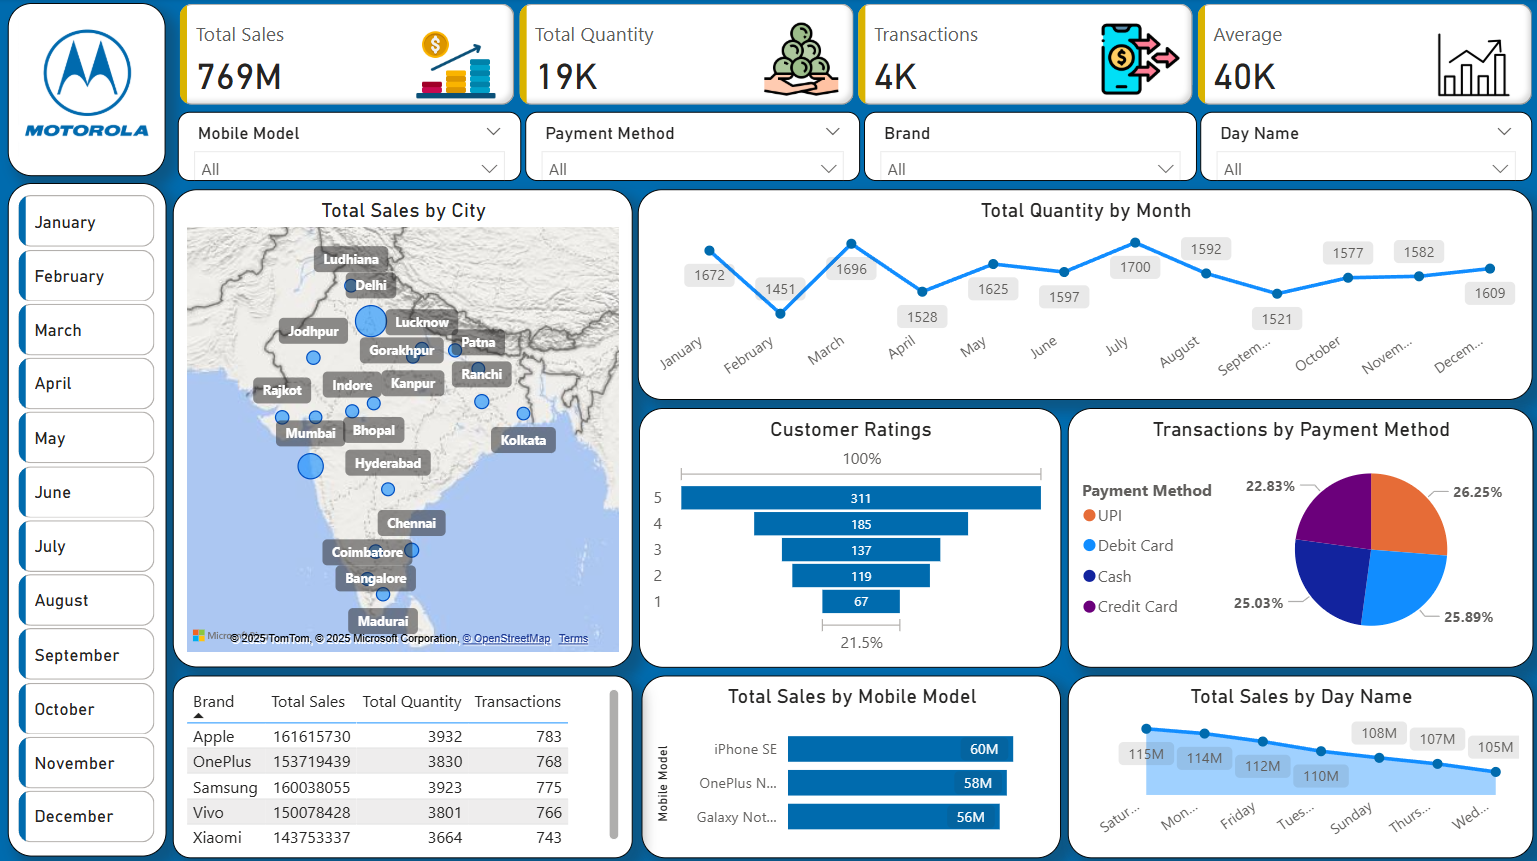

The page's visual inventory and layout, read from the dashboard file:
{"tool":"powerbi","page":{"name":"Page 1","canvas":[1280,720],"ordinal":0},"visuals":[{"type":"shape","box":[7,4.7,131.4,144.2],"z":0},{"type":"image","box":[11.6,7,124.4,134.9],"z":1000},{"type":"shape","box":[6.9,153.7,131.7,559.9],"z":2000},{"type":"advancedSlicerVisual","fields":{"Values":["Sales_Data.Date.Variation.Date Hierarchy.Month"]},"box":[11,159.2,123.5,554.4],"z":3000},{"type":"cardVisual","fields":{"Data":["Sales_Data.Total Sales","Sales_Data.Total Quantity","Sales_Data.Transactions","Sales_Data.Average"]},"box":[145.5,0,1134.8,105.7],"z":4000},{"type":"map","fields":{"Category":["Sales_Data.City"],"Size":["Sales_Data.Total Sales"]},"box":[144.2,159.3,382.6,397.7],"z":5000},{"type":"lineChart","fields":{"Y":["Sales_Data.Total Quantity"],"Category":["Sales_Data.Date.Variation.Date Hierarchy.Month","Sales_Data.Date.Variation.Date Hierarchy.Day"]},"box":[531.4,159.3,744.2,175.6],"z":6000},{"type":"clusteredBarChart","fields":{"Category":["Sales_Data.Mobile Model"],"Y":["Sales_Data.Total Sales"]},"box":[533.7,562.8,348.8,152.3],"z":7000},{"type":"pieChart","fields":{"Category":["Sales_Data.Payment Method"],"Y":["Sales_Data.Transactions"]},"box":[888.4,340.7,387.2,216.3],"z":8000},{"type":"funnel","title":"Customer Ratings","fields":{"Category":["Sales_Data.Customer Ratings"],"Y":["CountNonNull(Sales_Data.Customer Ratings)"]},"box":[532.6,340.7,351.2,216.3],"z":9000},{"type":"areaChart","fields":{"Category":["Sales_Data.Day Name"],"Y":["Sales_Data.Total Sales"]},"box":[888.4,562.8,387.2,152.3],"z":10000},{"type":"tableEx","fields":{"Values":["Sales_Data.Brand","Sales_Data.Total Sales","Sales_Data.Total Quantity","Sales_Data.Transactions"]},"box":[144.2,562.8,382.6,152.3],"z":11000},{"type":"slicer","fields":{"Values":["Sales_Data.Mobile Model"]},"box":[148.2,94.7,285.4,57.6],"z":12000},{"type":"slicer","fields":{"Values":["Sales_Data.Payment Method"]},"box":[437.7,94.7,278.6,57.6],"z":13000},{"type":"slicer","fields":{"Values":["Sales_Data.Day Name"]},"box":[999,94.7,275.8,57.6],"z":14000},{"type":"slicer","fields":{"Values":["Sales_Data.Brand"]},"box":[719,94.7,277.2,57.6],"z":15000}]}

Visuals, with their boxes in screenshot pixels (x1, y1, x2, y2), scaled from the page's 1280x720 canvas onto the 1537x861 screenshot:
shape: bbox=(8, 6, 166, 178)
image: bbox=(14, 8, 163, 170)
shape: bbox=(8, 184, 166, 853)
advancedSlicerVisual - Sales_Data.Date.Variation.Date Hierarchy.Month: bbox=(13, 190, 162, 853)
cardVisual - Sales_Data.Total Sales x Sales_Data.Total Quantity: bbox=(175, 0, 1536, 126)
map - Sales_Data.City x Sales_Data.Total Sales: bbox=(173, 190, 633, 666)
lineChart - Sales_Data.Total Quantity x Sales_Data.Date.Variation.Date Hierarchy.Month: bbox=(638, 190, 1532, 400)
clusteredBarChart - Sales_Data.Mobile Model x Sales_Data.Total Sales: bbox=(641, 673, 1060, 855)
pieChart - Sales_Data.Payment Method x Sales_Data.Transactions: bbox=(1067, 407, 1532, 666)
"Customer Ratings" funnel: bbox=(640, 407, 1061, 666)
areaChart - Sales_Data.Day Name x Sales_Data.Total Sales: bbox=(1067, 673, 1532, 855)
tableEx - Sales_Data.Brand x Sales_Data.Total Sales: bbox=(173, 673, 633, 855)
slicer - Sales_Data.Mobile Model: bbox=(178, 113, 521, 182)
slicer - Sales_Data.Payment Method: bbox=(526, 113, 860, 182)
slicer - Sales_Data.Day Name: bbox=(1200, 113, 1531, 182)
slicer - Sales_Data.Brand: bbox=(863, 113, 1196, 182)
